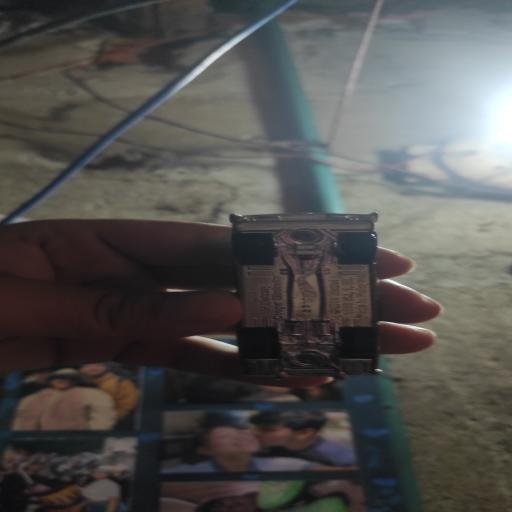Carrito: (231, 213, 377, 378)
